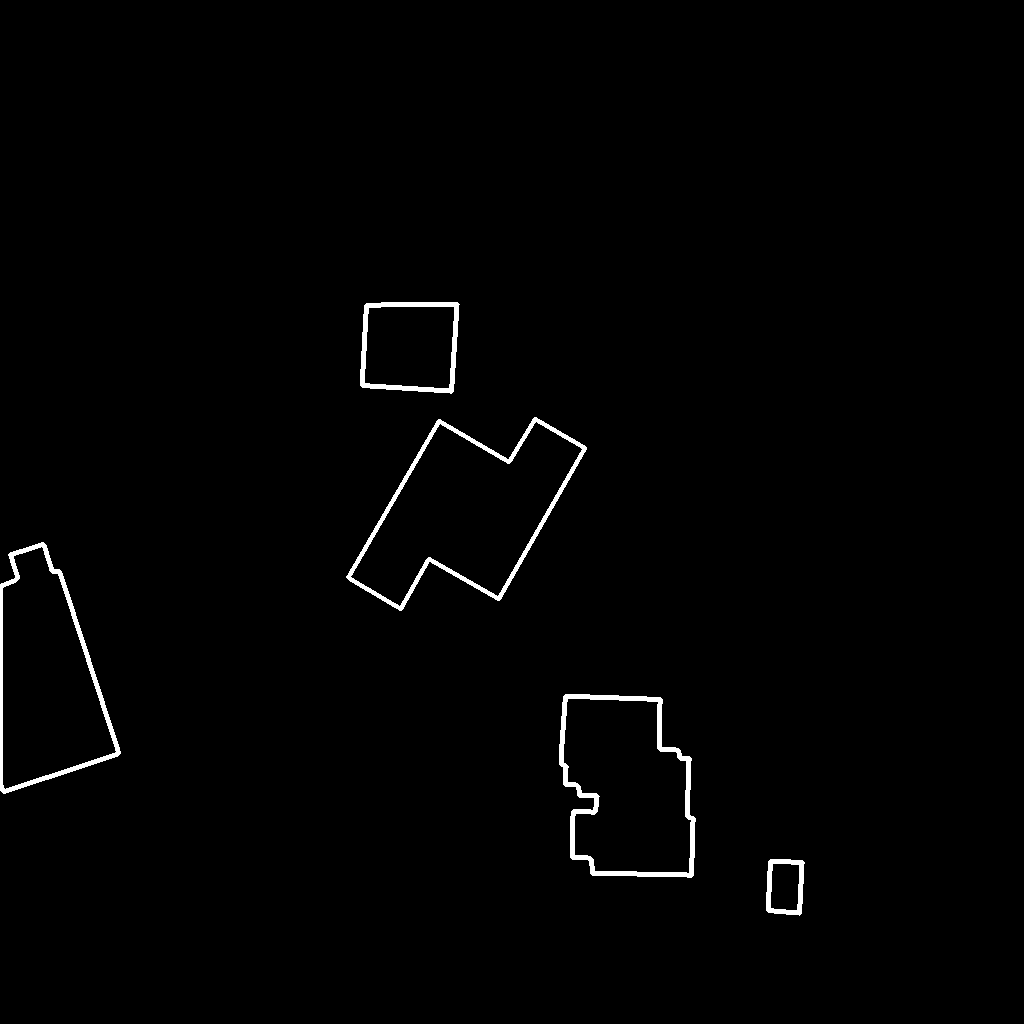building: (348, 419, 586, 610), (0, 544, 120, 793), (561, 696, 694, 876), (362, 304, 458, 392), (768, 861, 803, 914)
